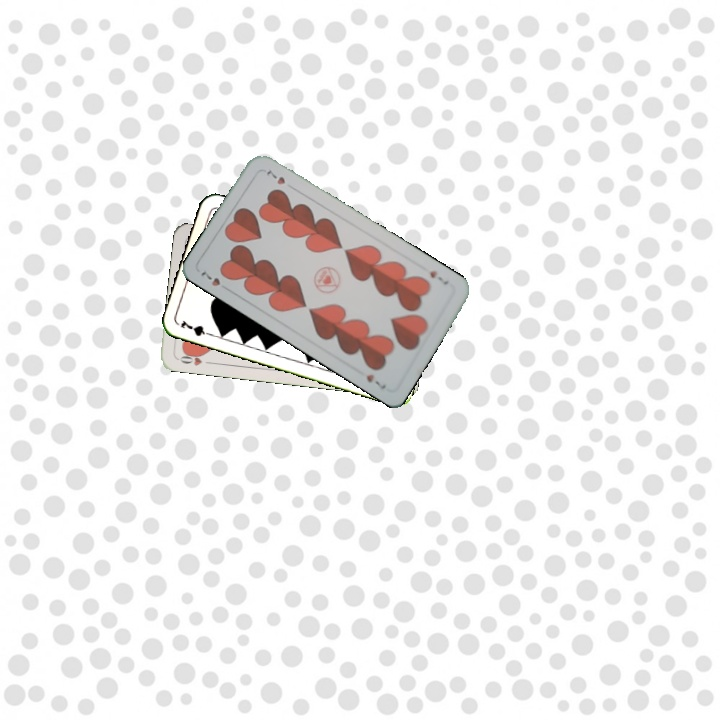G7: (176, 316, 216, 339)
H7: (196, 267, 223, 289), (426, 266, 451, 287)
HO: (174, 348, 215, 368)
